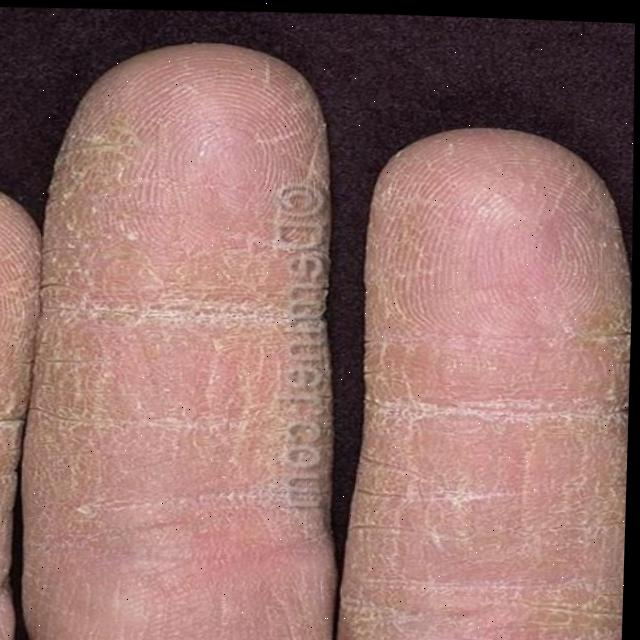Eczema: (0, 115, 633, 640)
